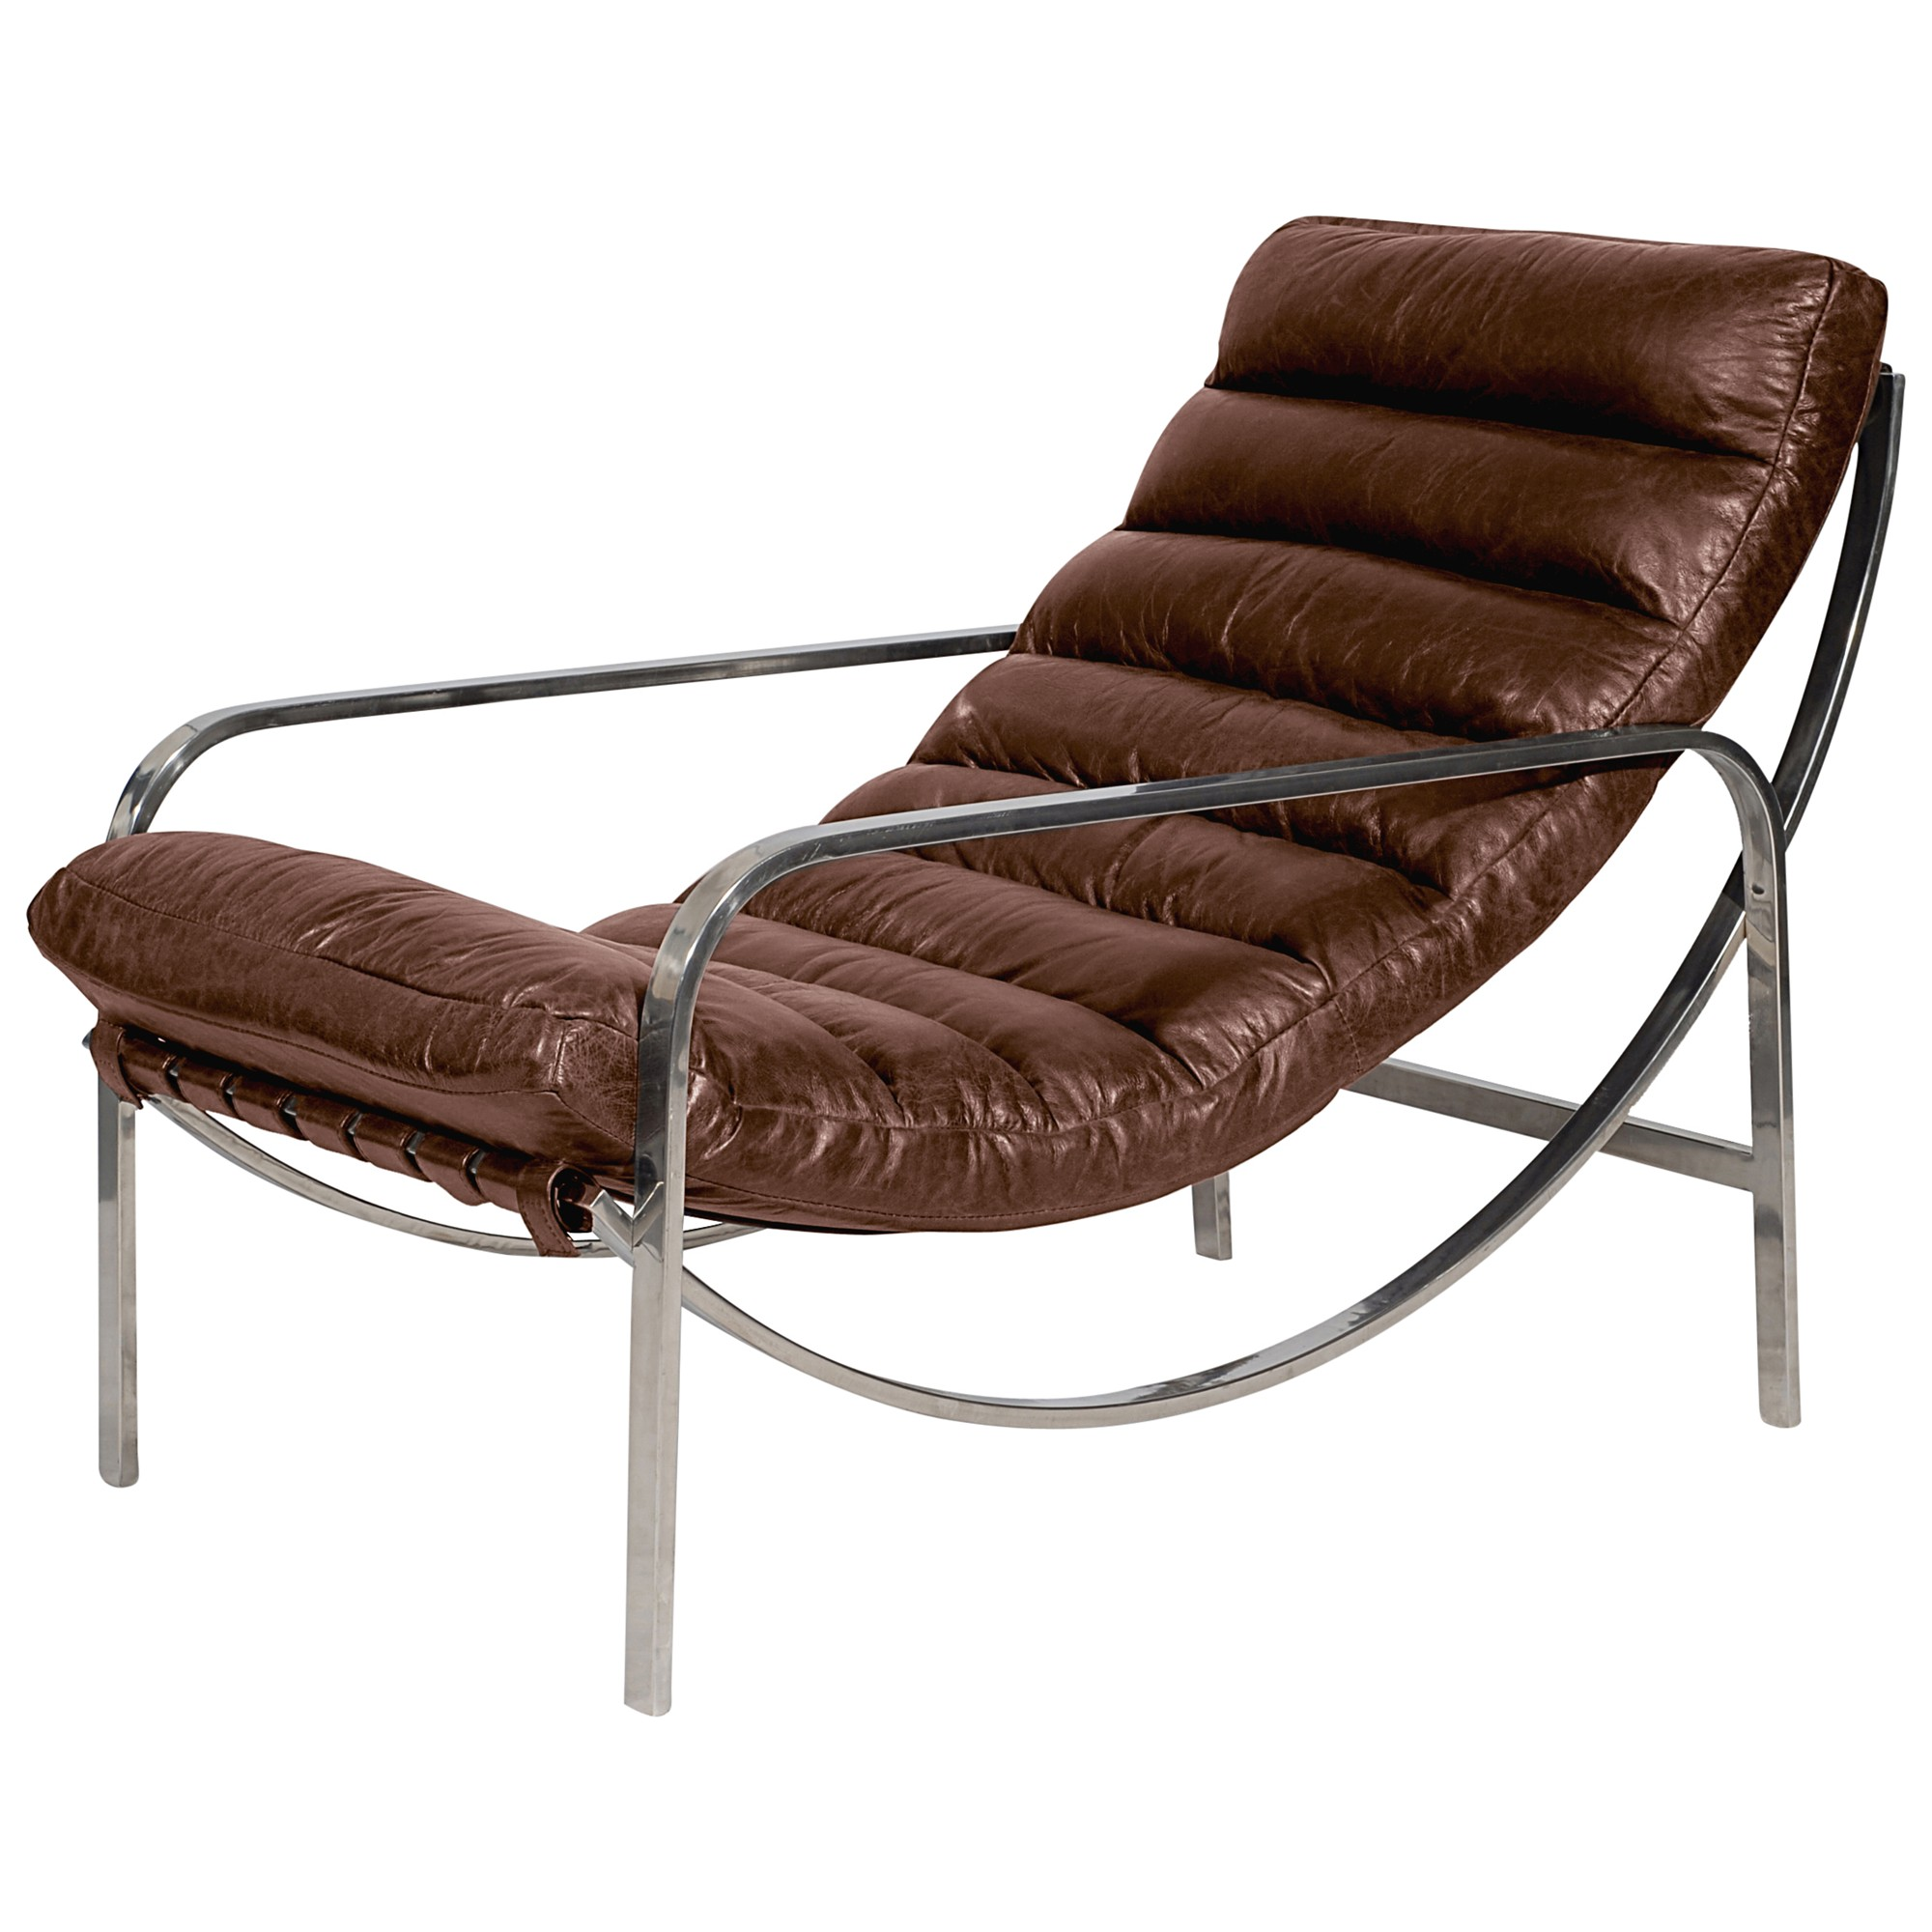chairs: (4, 184, 1920, 1716)
